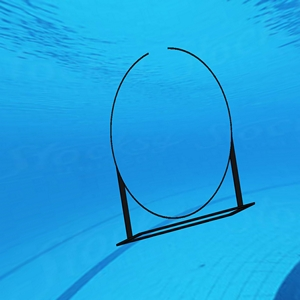circle: (109, 46, 257, 248)
